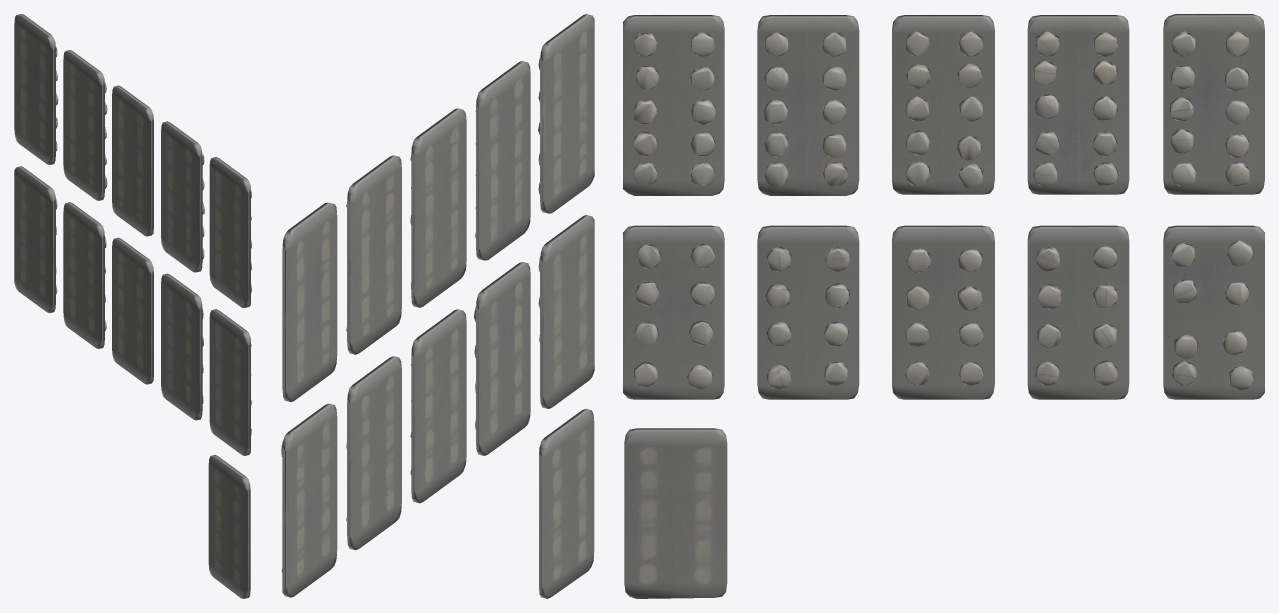
Rendered from Many tablets.fbx.
3 views of the same model, side by side, from view 1: azimuth 30°, elevation 25°; view 2: azimuth 150°, elevation 25°; view 3: azimuth 270°, elevation 25° (orthographic). The views are drawn at different scales.
Parts seen in each view (by area): view 1: tripo_node_67809207-b239-424f-8c51-5a5be47b8be7, tripo_node_67809207-b239-424f-8c51-5a5be47b8be7.005, tripo_node_67809207-b239-424f-8c51-5a5be47b8be7.002, tripo_node_67809207-b239-424f-8c51-5a5be47b8be7.001, tripo_node_67809207-b239-424f-8c51-5a5be47b8be7.003, tripo_node_67809207-b239-424f-8c51-5a5be47b8be7.004; view 2: tripo_node_67809207-b239-424f-8c51-5a5be47b8be7, tripo_node_67809207-b239-424f-8c51-5a5be47b8be7.005, tripo_node_67809207-b239-424f-8c51-5a5be47b8be7.003, tripo_node_67809207-b239-424f-8c51-5a5be47b8be7.001, tripo_node_67809207-b239-424f-8c51-5a5be47b8be7.002, tripo_node_67809207-b239-424f-8c51-5a5be47b8be7.004; view 3: tripo_node_67809207-b239-424f-8c51-5a5be47b8be7, tripo_node_67809207-b239-424f-8c51-5a5be47b8be7.002, tripo_node_67809207-b239-424f-8c51-5a5be47b8be7.003, tripo_node_67809207-b239-424f-8c51-5a5be47b8be7.001, tripo_node_67809207-b239-424f-8c51-5a5be47b8be7.005, tripo_node_67809207-b239-424f-8c51-5a5be47b8be7.004.
Boxes of the visible parts, x1,y1,x2,y2 form: tripo_node_67809207-b239-424f-8c51-5a5be47b8be7: [14, 50, 252, 455]; tripo_node_67809207-b239-424f-8c51-5a5be47b8be7.005: [14, 14, 58, 164]; tripo_node_67809207-b239-424f-8c51-5a5be47b8be7.002: [161, 121, 204, 272]; tripo_node_67809207-b239-424f-8c51-5a5be47b8be7.001: [209, 157, 251, 307]; tripo_node_67809207-b239-424f-8c51-5a5be47b8be7.003: [112, 85, 153, 236]; tripo_node_67809207-b239-424f-8c51-5a5be47b8be7.004: [208, 455, 250, 598]; tripo_node_67809207-b239-424f-8c51-5a5be47b8be7: [281, 155, 594, 597]; tripo_node_67809207-b239-424f-8c51-5a5be47b8be7.005: [282, 202, 337, 401]; tripo_node_67809207-b239-424f-8c51-5a5be47b8be7.003: [410, 108, 466, 307]; tripo_node_67809207-b239-424f-8c51-5a5be47b8be7.001: [538, 14, 594, 213]; tripo_node_67809207-b239-424f-8c51-5a5be47b8be7.002: [475, 61, 530, 260]; tripo_node_67809207-b239-424f-8c51-5a5be47b8be7.004: [539, 408, 594, 598]; tripo_node_67809207-b239-424f-8c51-5a5be47b8be7: [623, 15, 1264, 399]; tripo_node_67809207-b239-424f-8c51-5a5be47b8be7.002: [757, 15, 859, 195]; tripo_node_67809207-b239-424f-8c51-5a5be47b8be7.003: [892, 15, 994, 194]; tripo_node_67809207-b239-424f-8c51-5a5be47b8be7.001: [623, 15, 724, 195]; tripo_node_67809207-b239-424f-8c51-5a5be47b8be7.005: [1163, 14, 1264, 194]; tripo_node_67809207-b239-424f-8c51-5a5be47b8be7.004: [624, 428, 727, 598].
Size of the model in its own units: 2.54 by 99.8 by 99.8.
Materials: 1 (1 with a texture image).
